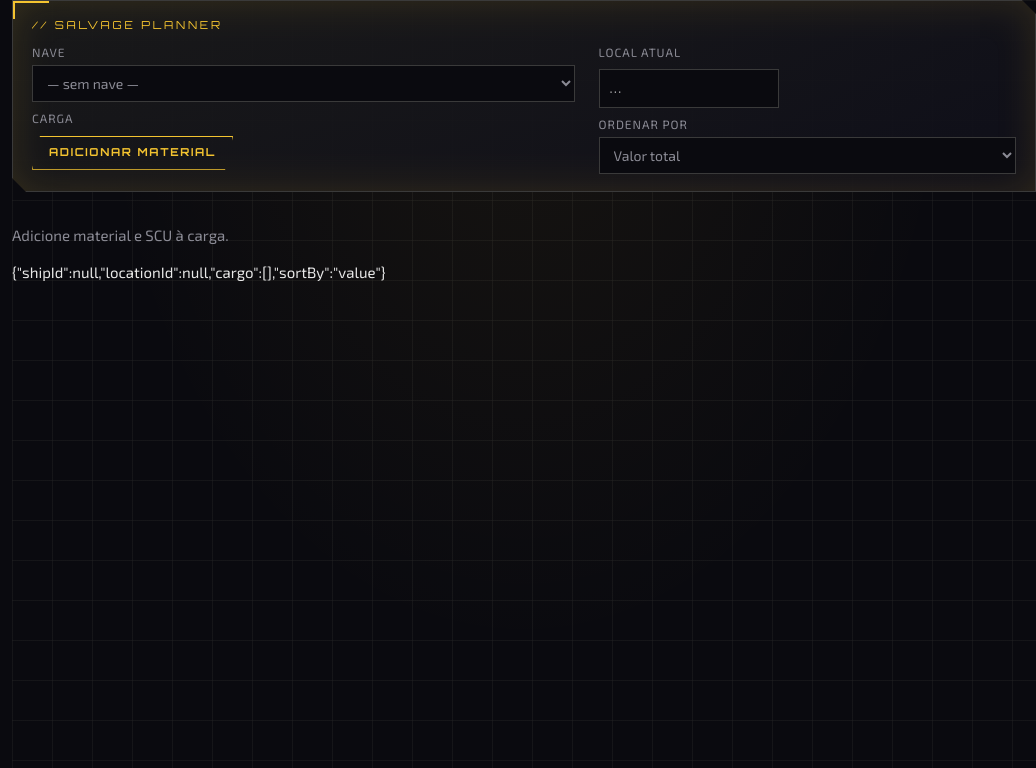
Test case: Salvage Planner › SCU com vírgula e escolha do material
Click the button "Adicionar material" at (133, 153), box [32,136,233,170]
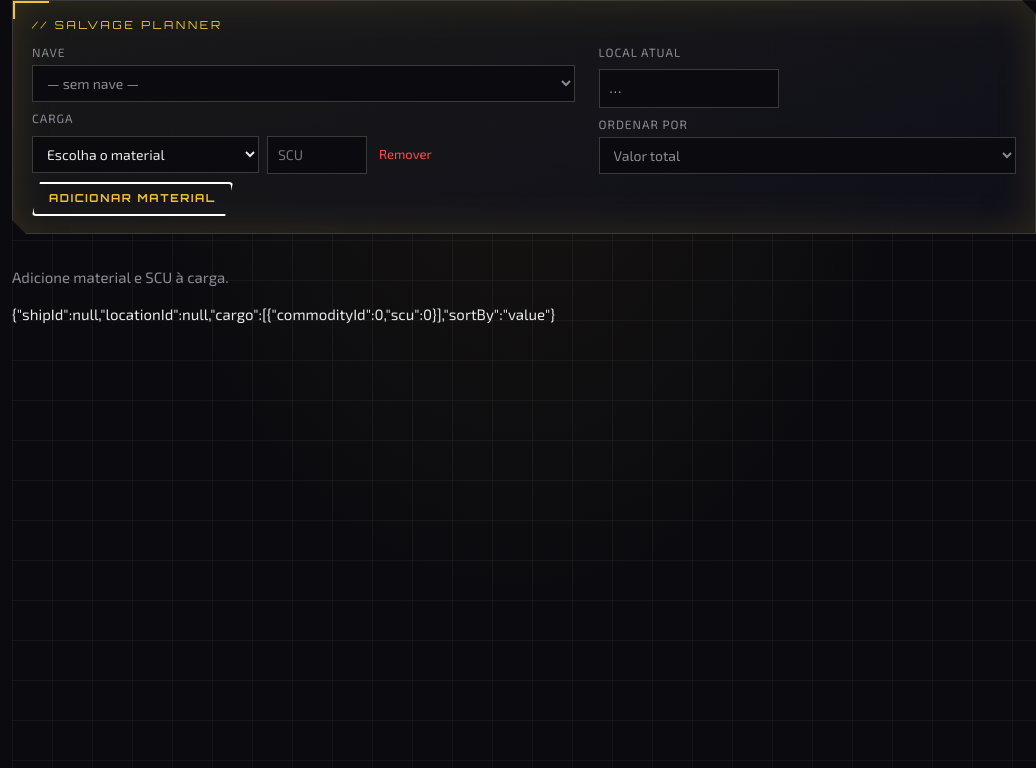
Select "Construction Materials" in the dropdown named "Material 1" at (146, 155), box [32,136,259,173]
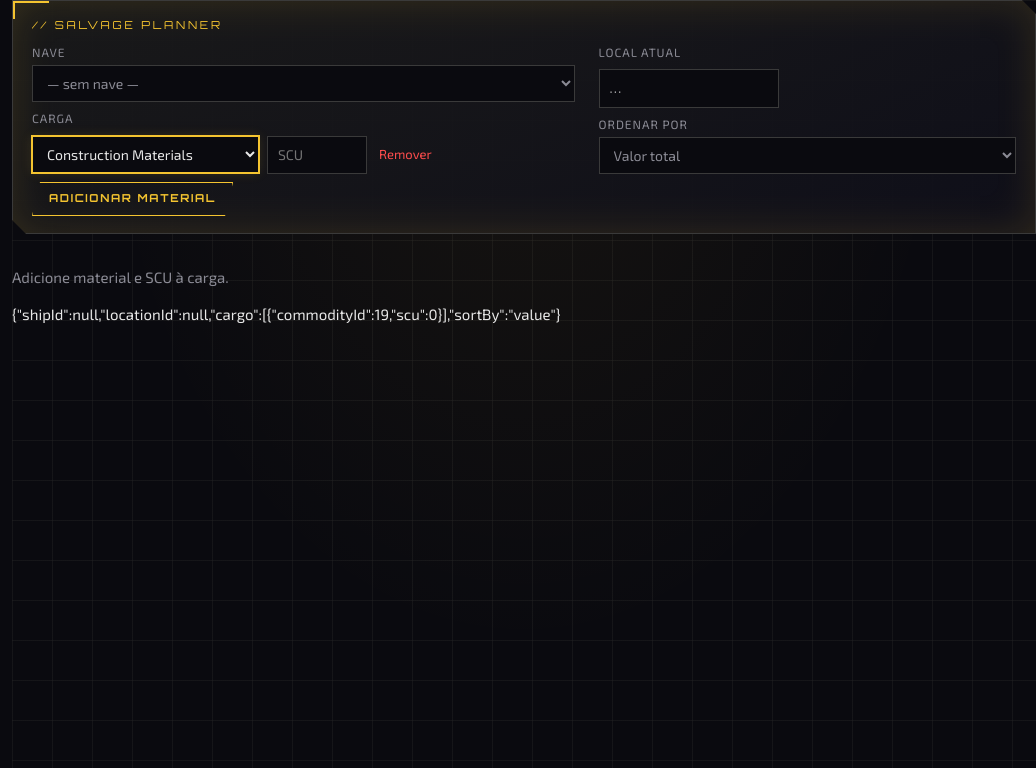
Type "3,5" into the field named "SCU 1" at (317, 155), box [267,136,367,174]
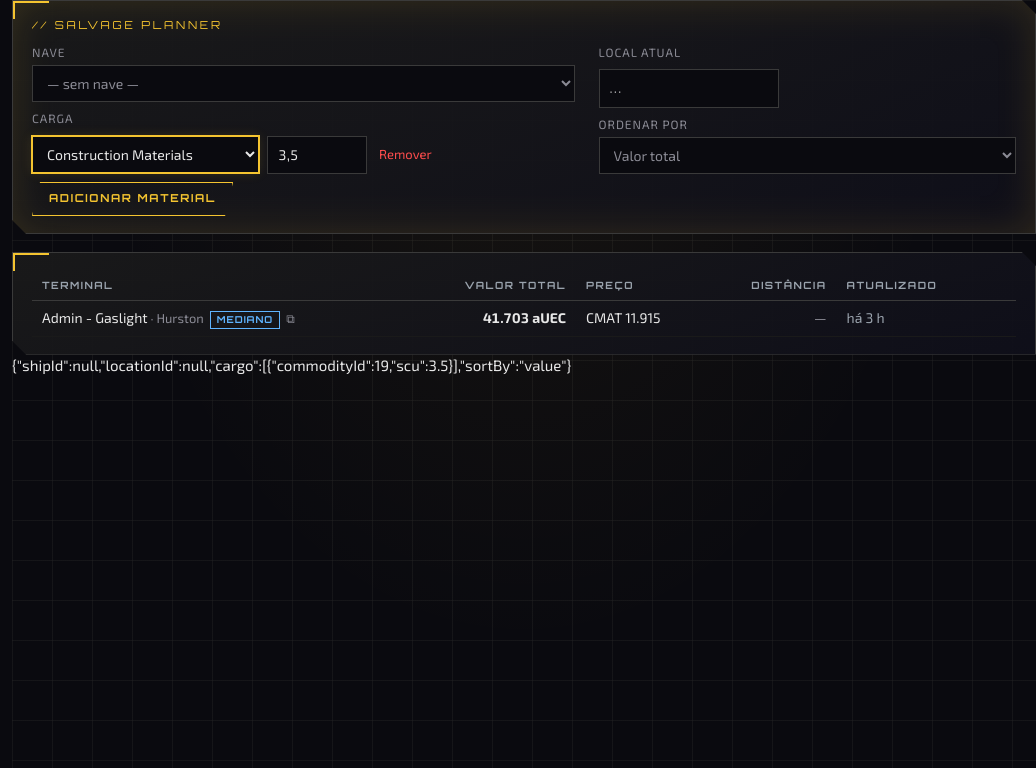
Now the text "41.703 aUEC" is shown, box [483,310,566,326]
